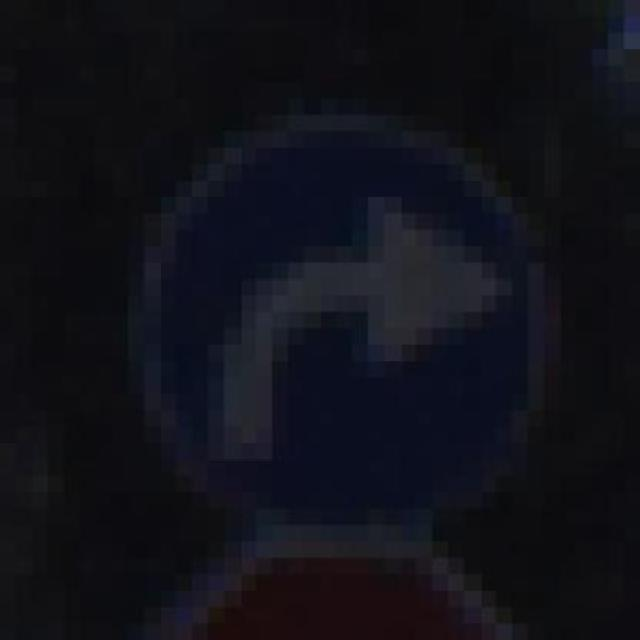Turn right ahead: (128, 81, 560, 558)
